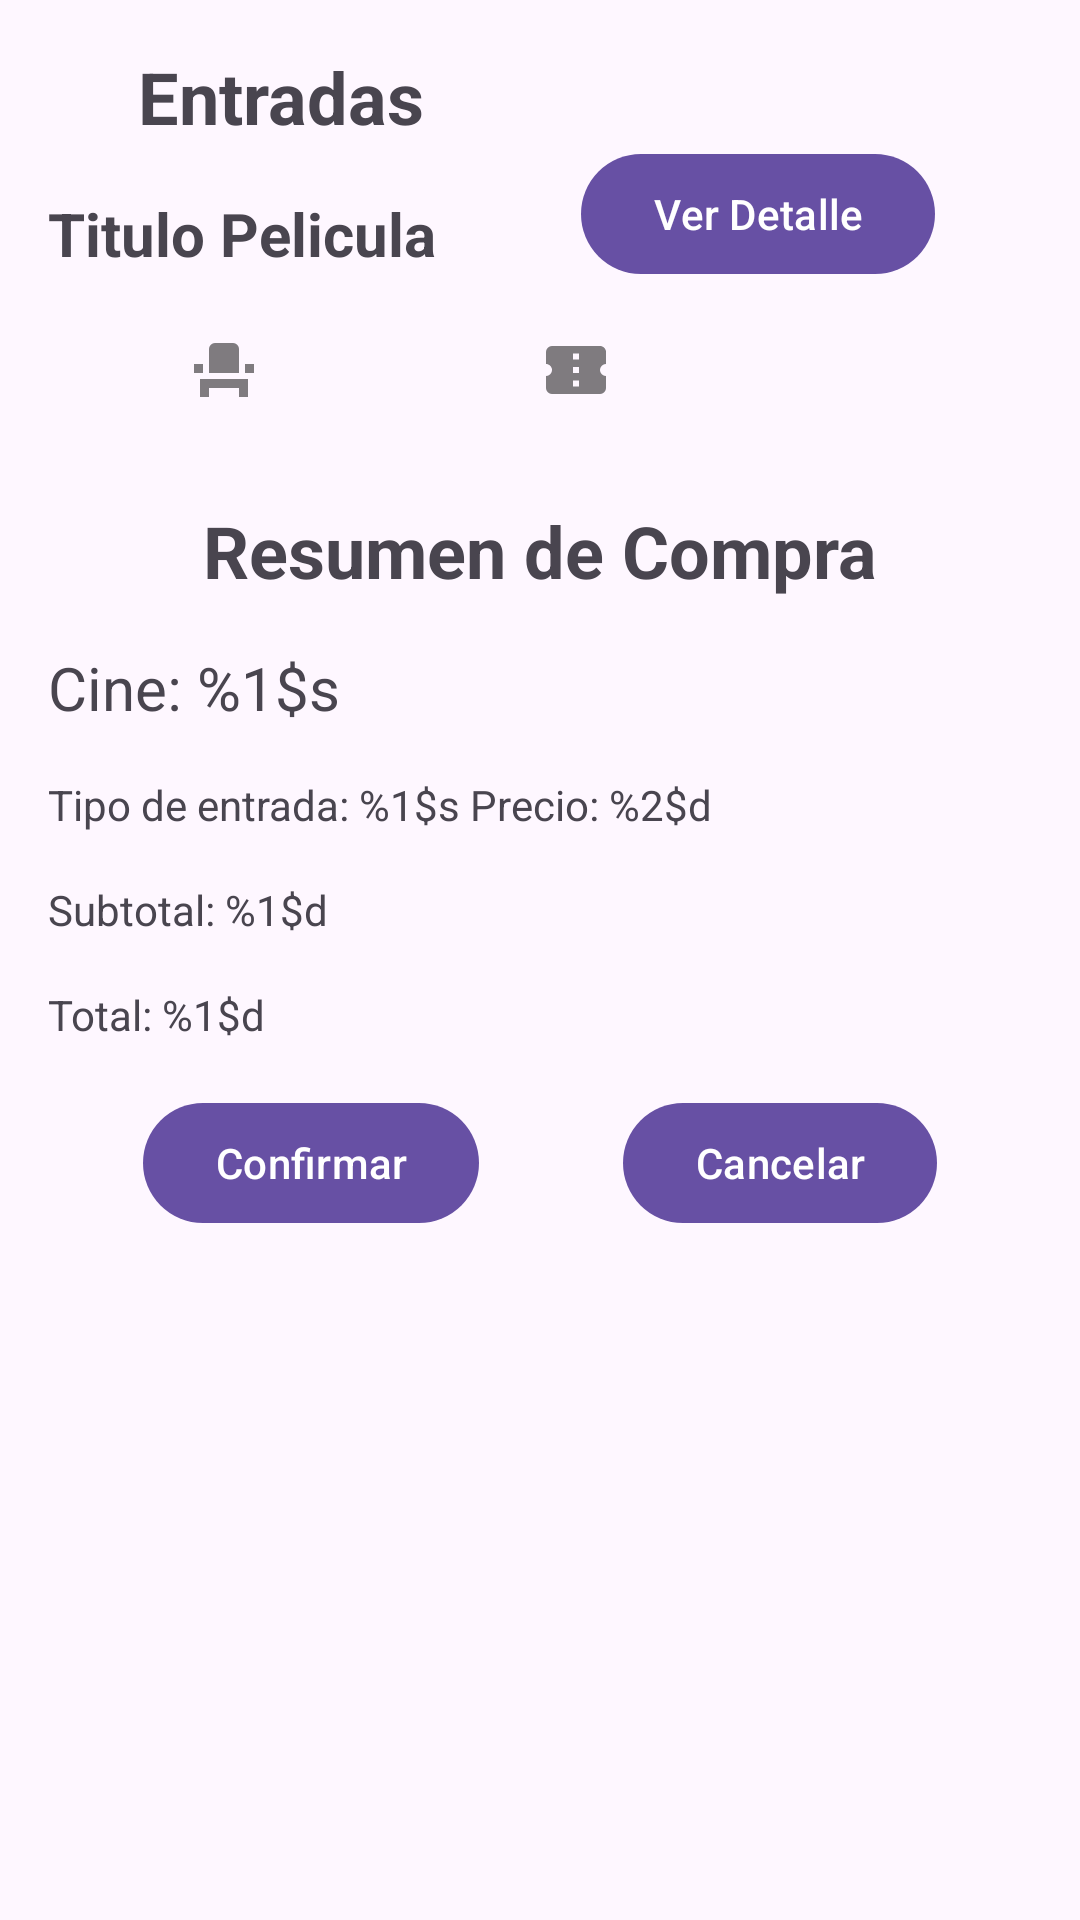

Icon click points for this 1080×1920 phone screenshot, format (x,y):
seat: (224,370)
ticket confirmation: (576,370)
